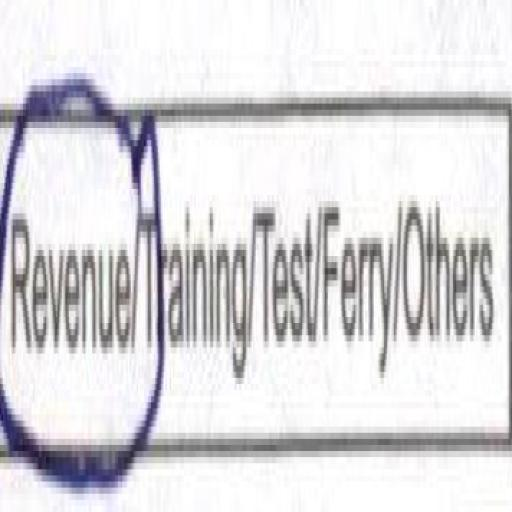check: (2, 55, 140, 512)
